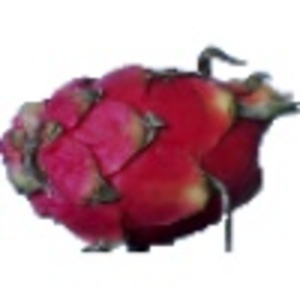pitaia: (1, 44, 300, 255)
